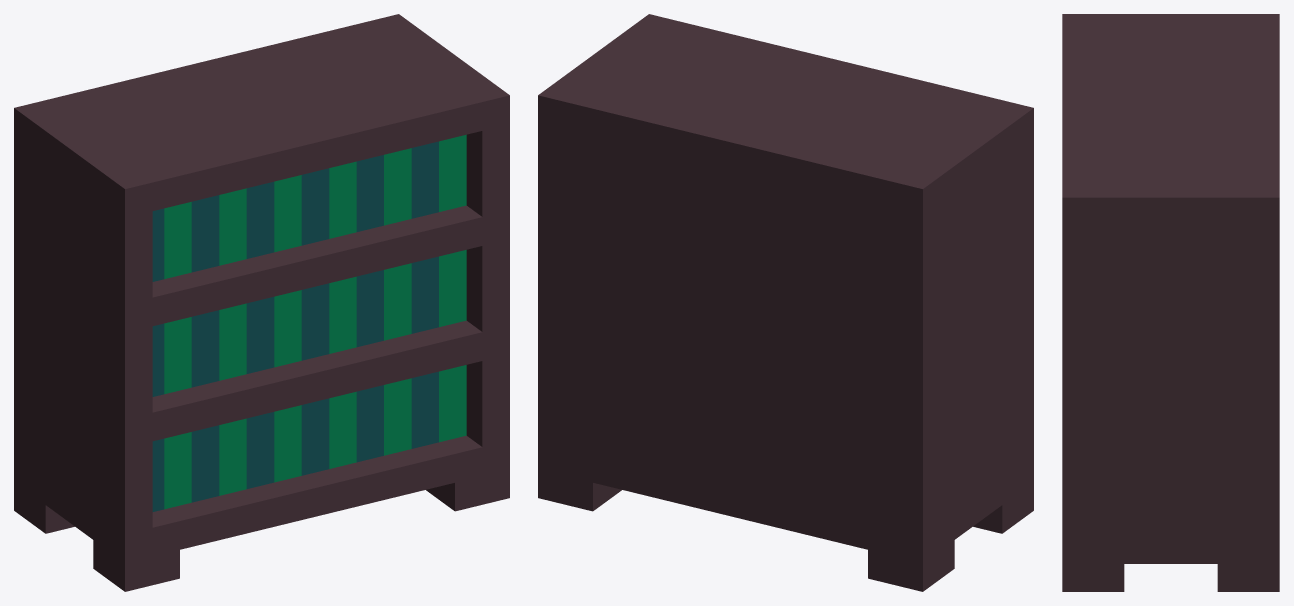
File: large_bookcase_c_green.obj
The picture shows the model from 3 angles, left to right: view 1: azimuth 30°, elevation 25°; view 2: azimuth 150°, elevation 25°; view 3: azimuth 270°, elevation 25°; orthographic projection. The views are drawn at different scales.
Bounding box in the file's own units: 1.4 × 1.4 × 0.7.
1 material, 1 textured.
